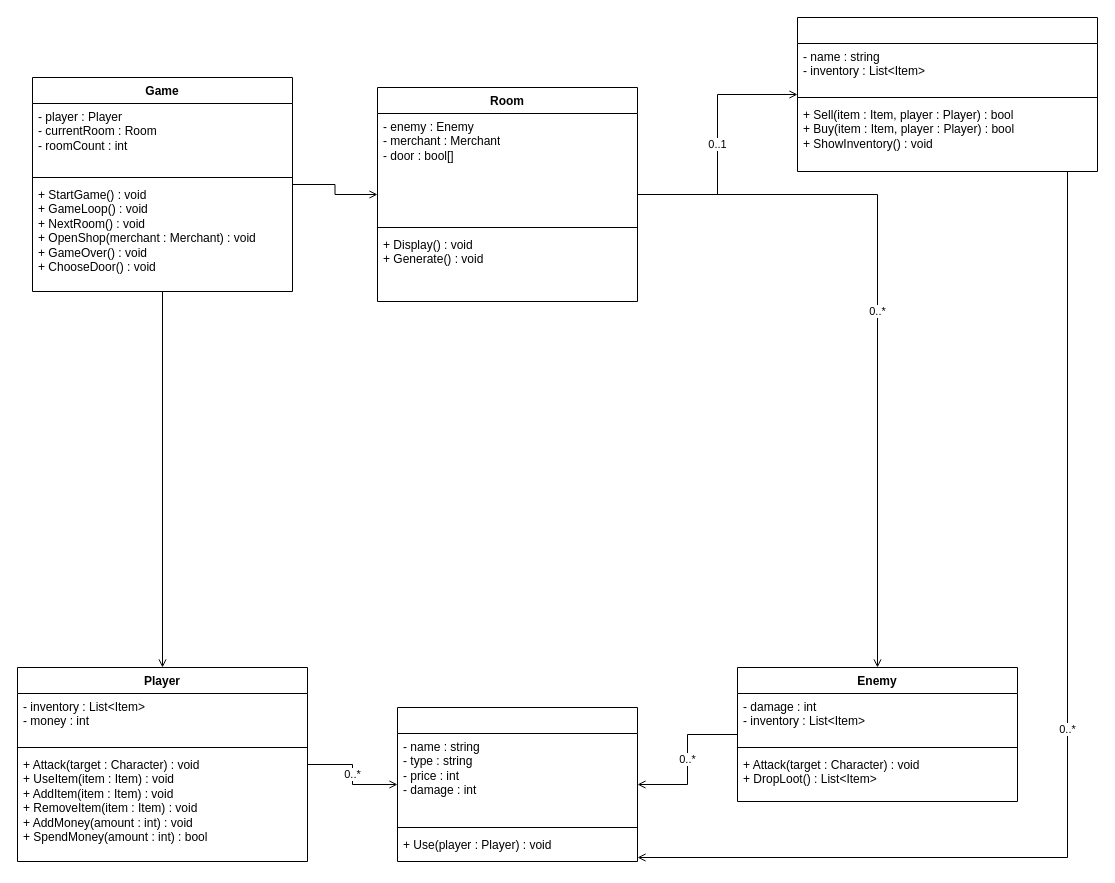
This 1115x883 diagram has some shape labels left out. The shapes that lost their labels are listed below. From the top down, each one's box as (x1, y1, x2, y2) in pixels, then its label:
(796, 16, 1098, 172): Merchant
(396, 706, 638, 862): Item
